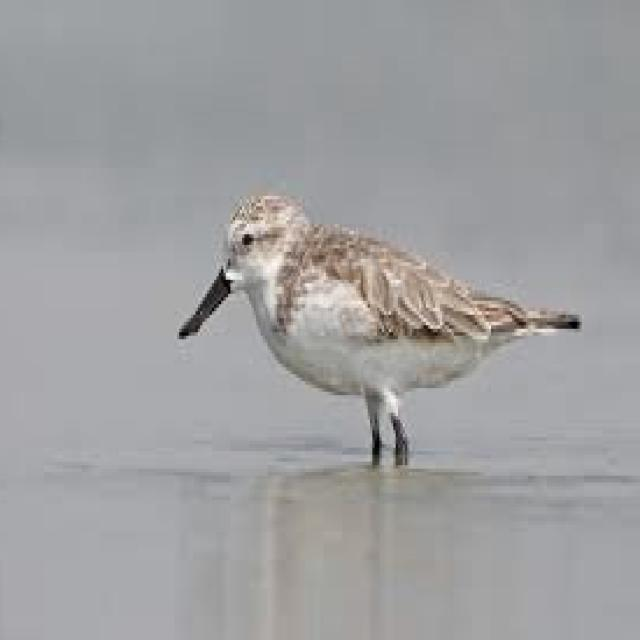sandpiper: (182, 192, 582, 462)
